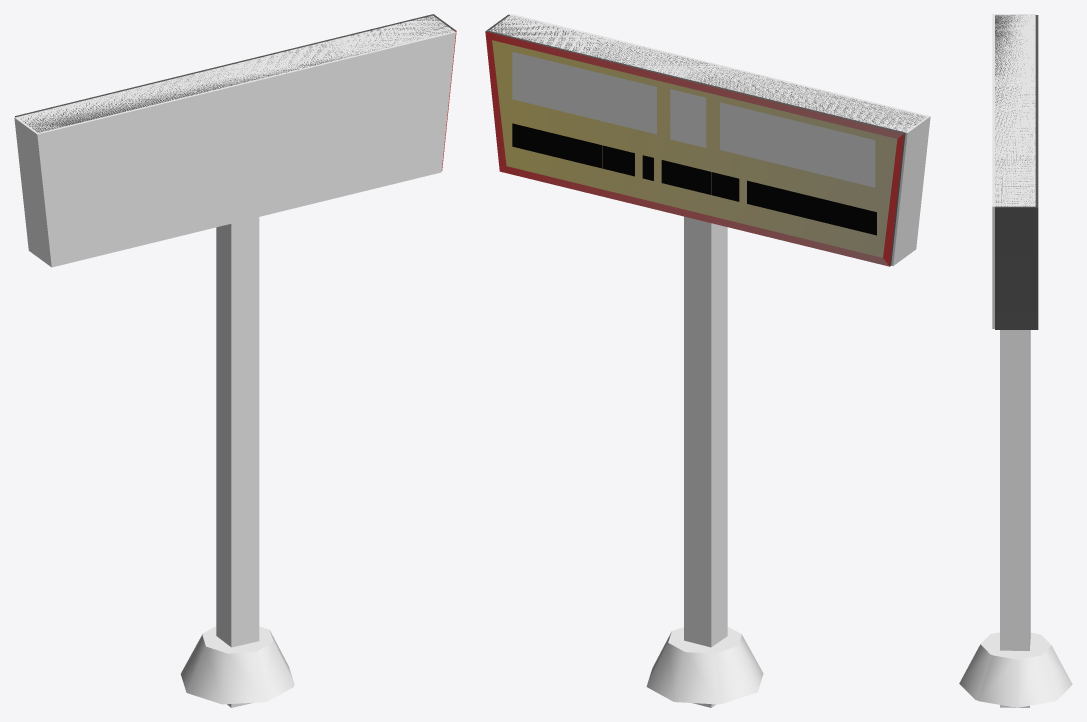
Rendered from s_food_mart_sign_001.dae.
The picture shows the model from 3 angles, left to right: view 1: azimuth 30°, elevation 25°; view 2: azimuth 150°, elevation 25°; view 3: azimuth 270°, elevation 25°; orthographic projection. The views are drawn at different scales.
Parts seen in each view (by area): view 1: Colmesh_s_food_mart_sign_001-1, s_food_mart_sign_001_L60; view 2: s_food_mart_sign_001_L60, Colmesh_s_food_mart_sign_001-1; view 3: Colmesh_s_food_mart_sign_001-1, s_food_mart_sign_001_L60.
Part boxes in pixels (bbox=[...]): Colmesh_s_food_mart_sign_001-1: bbox=[14, 15, 455, 707]; s_food_mart_sign_001_L60: bbox=[15, 14, 456, 685]; s_food_mart_sign_001_L60: bbox=[485, 14, 925, 704]; Colmesh_s_food_mart_sign_001-1: bbox=[489, 14, 930, 707]; Colmesh_s_food_mart_sign_001-1: bbox=[959, 14, 1048, 707]; s_food_mart_sign_001_L60: bbox=[977, 15, 1072, 707].
Size of the model in its own units: 6.12 by 1.52 by 8.68.
